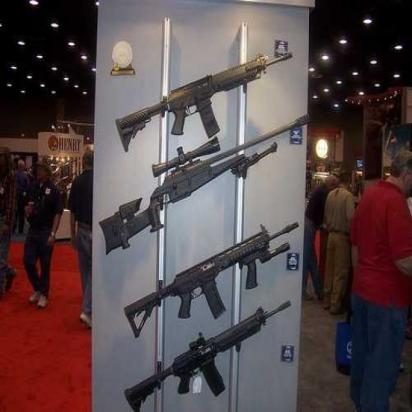Gun: (125, 308, 295, 409)
